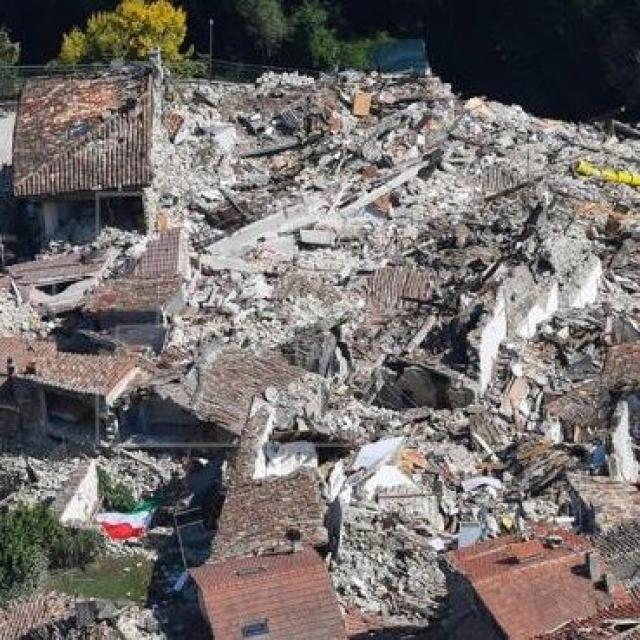collapsed_building: (7, 247, 401, 435), (236, 448, 638, 624)
